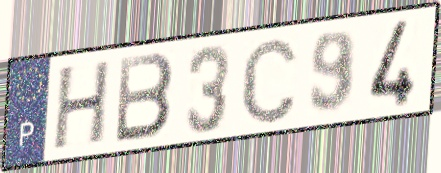3: (184, 41, 233, 137)
4: (366, 16, 419, 111)
9: (307, 28, 356, 116)
B: (113, 50, 177, 146)
C: (238, 33, 301, 127)
H: (50, 56, 114, 155)
